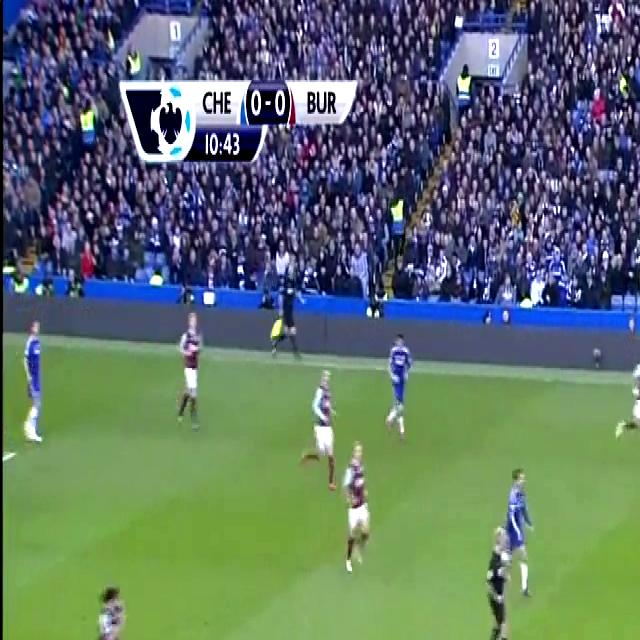referee: (264, 241, 310, 367), (477, 512, 522, 640)
soccer-player: (168, 300, 215, 444), (15, 310, 59, 462), (371, 308, 419, 447), (292, 363, 340, 490), (500, 458, 542, 587), (338, 436, 373, 580), (73, 570, 142, 640), (611, 330, 640, 466)
